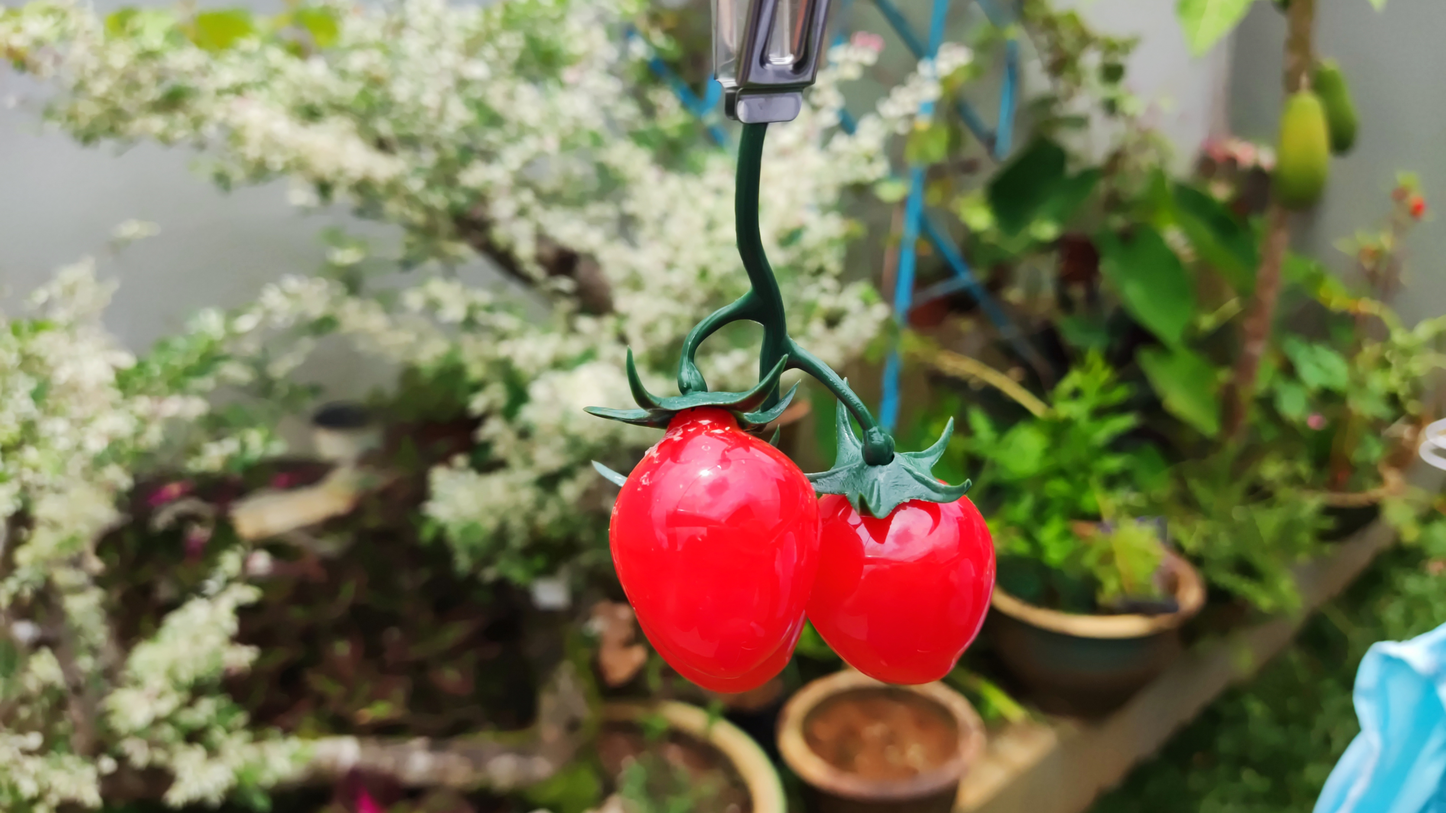peduncle: (735, 124, 775, 284)
strawberry: (609, 405, 821, 692), (808, 494, 997, 684)
